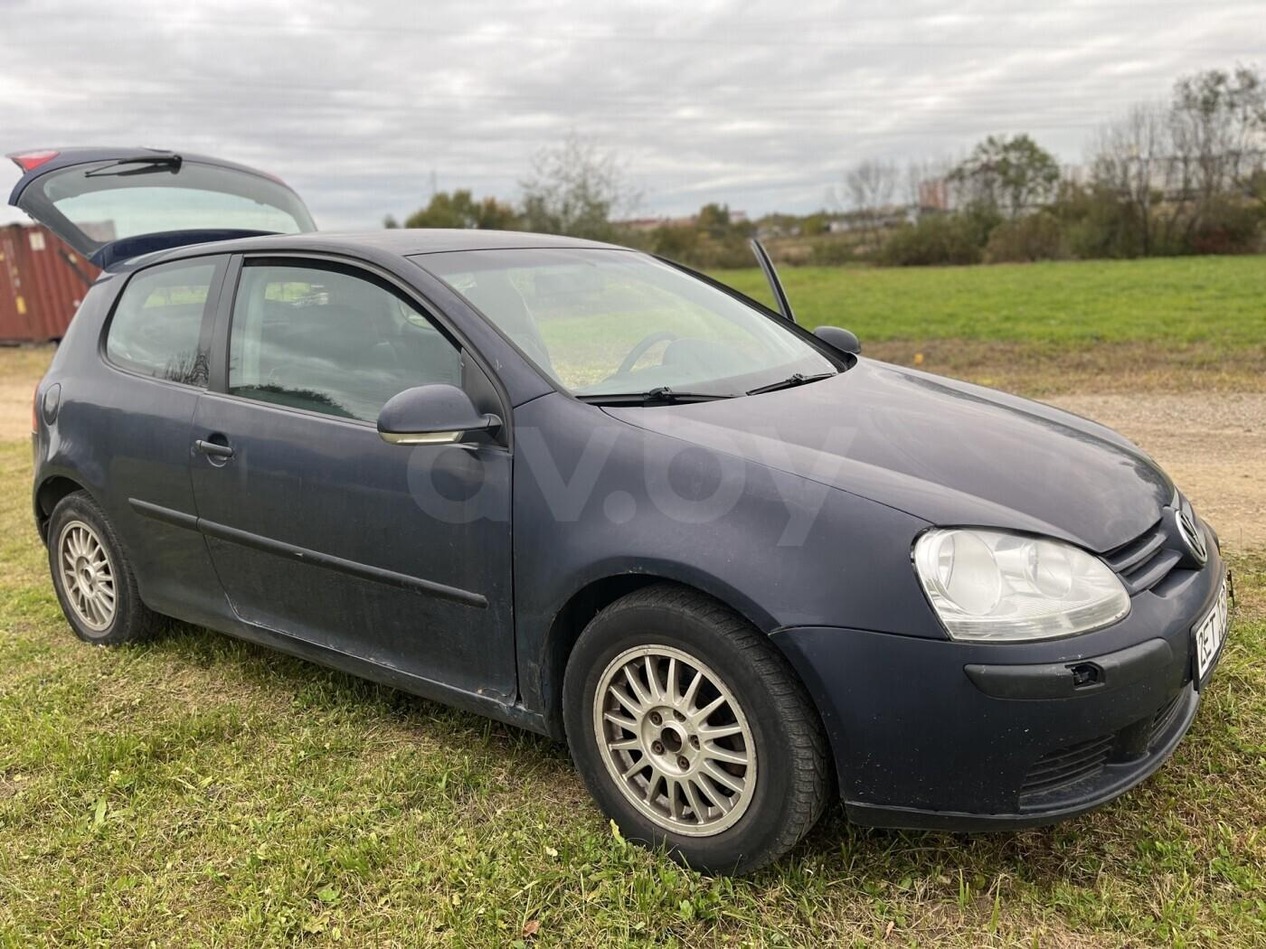Golf_2003-2009: (31, 237, 1239, 872)
